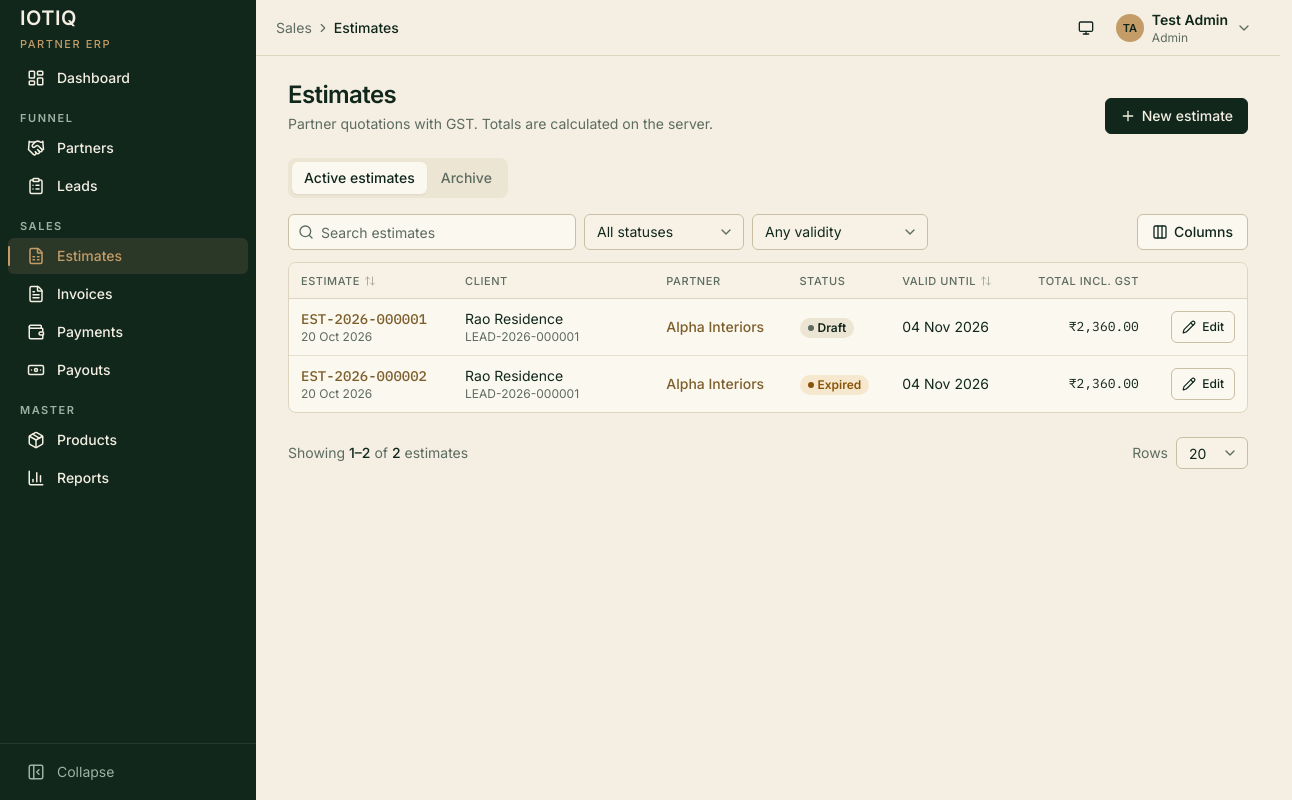
estimate list › archive tab › offers no restore without the Estimates approve or delete permission
Step 1. Click the tab "Archive" → coordinates (466, 178), box [429,162,504,194]
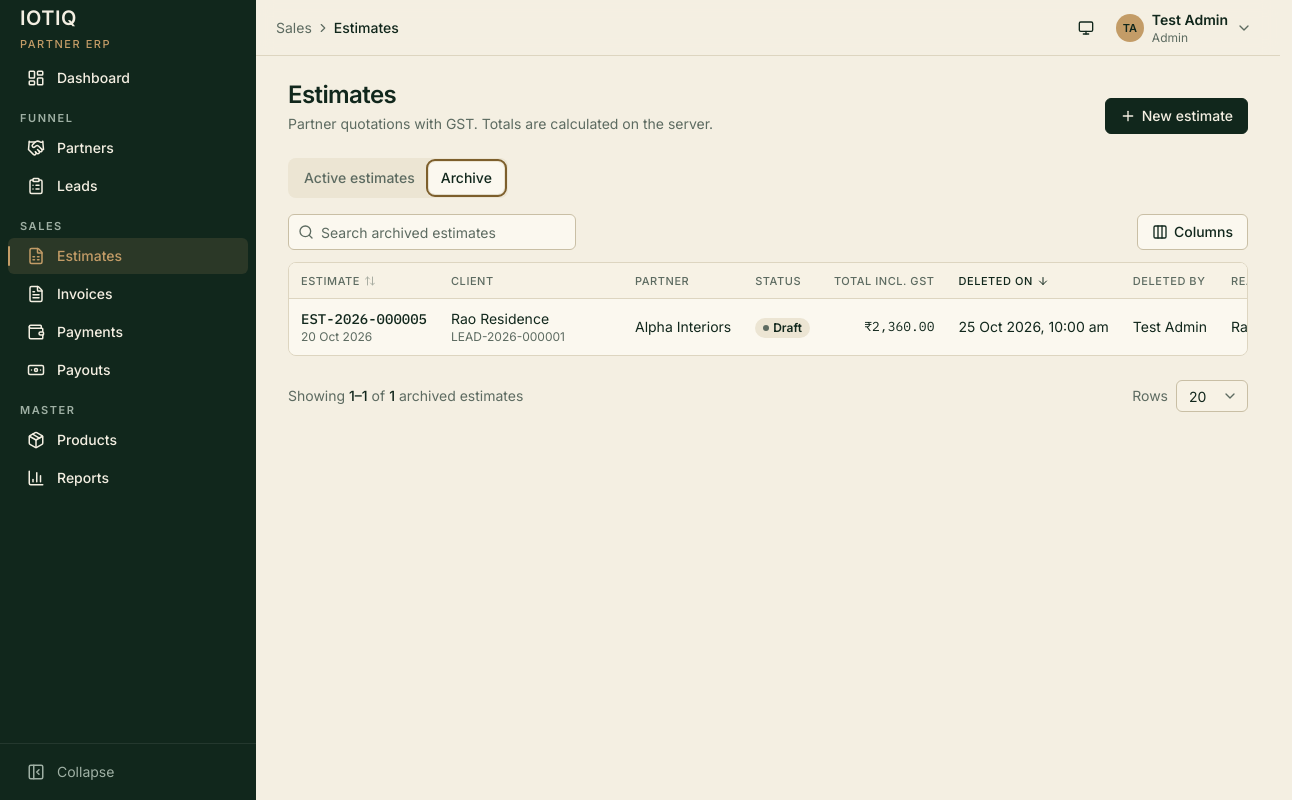
Expected: the text "EST-2026-000005" is shown, [301,309,427,329]
